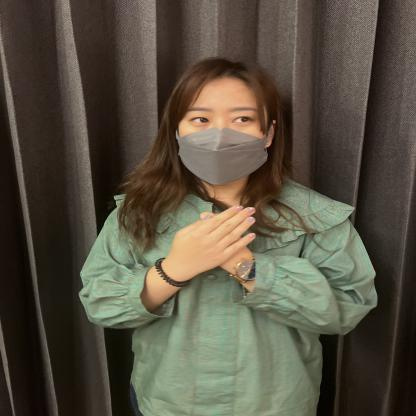Grieve: (105, 176, 373, 338)
